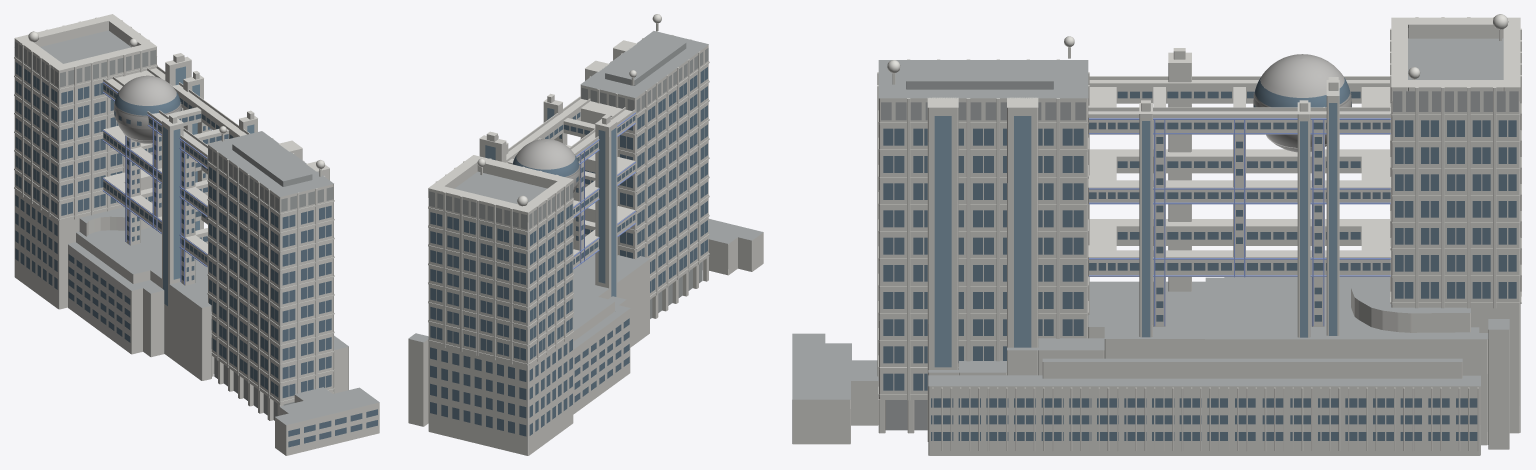
File: tokyo-fuji-tv.detail.glb
3 renders of one model, left to right at view 1: azimuth 30°, elevation 25°; view 2: azimuth 150°, elevation 25°; view 3: azimuth 270°, elevation 25°, orthographic. The views are drawn at different scales.
Parts seen in each view (by area): view 1: Fuji Television headquarters; view 2: Fuji Television headquarters; view 3: Fuji Television headquarters.
Part boxes in pixels (bbox=[...]): Fuji Television headquarters: bbox=[14, 14, 379, 455]; Fuji Television headquarters: bbox=[408, 14, 763, 455]; Fuji Television headquarters: bbox=[792, 14, 1521, 455].
Size of the model in its own units: 71.95 by 131 by 237.
